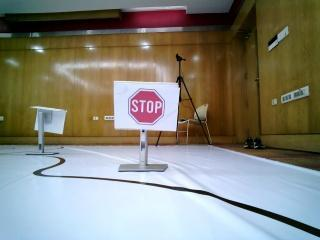stop: (119, 84, 179, 132)
